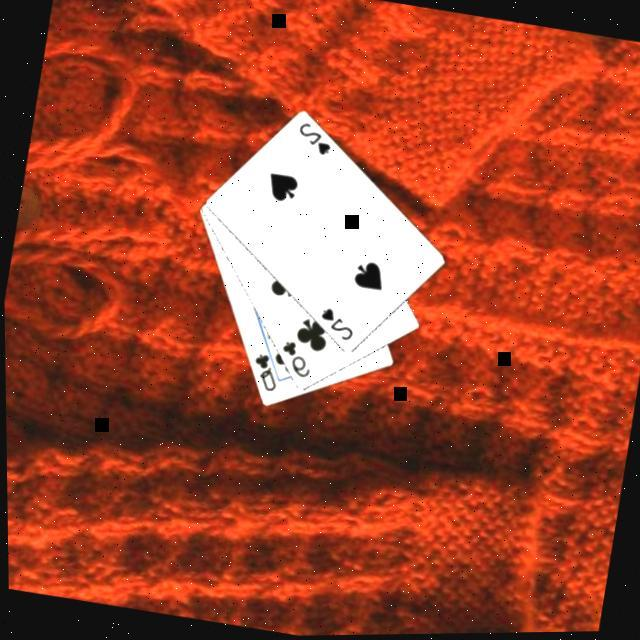2S: (311, 302, 356, 344), (289, 118, 334, 160)
6C: (270, 335, 314, 382)
QC: (242, 348, 282, 396)
